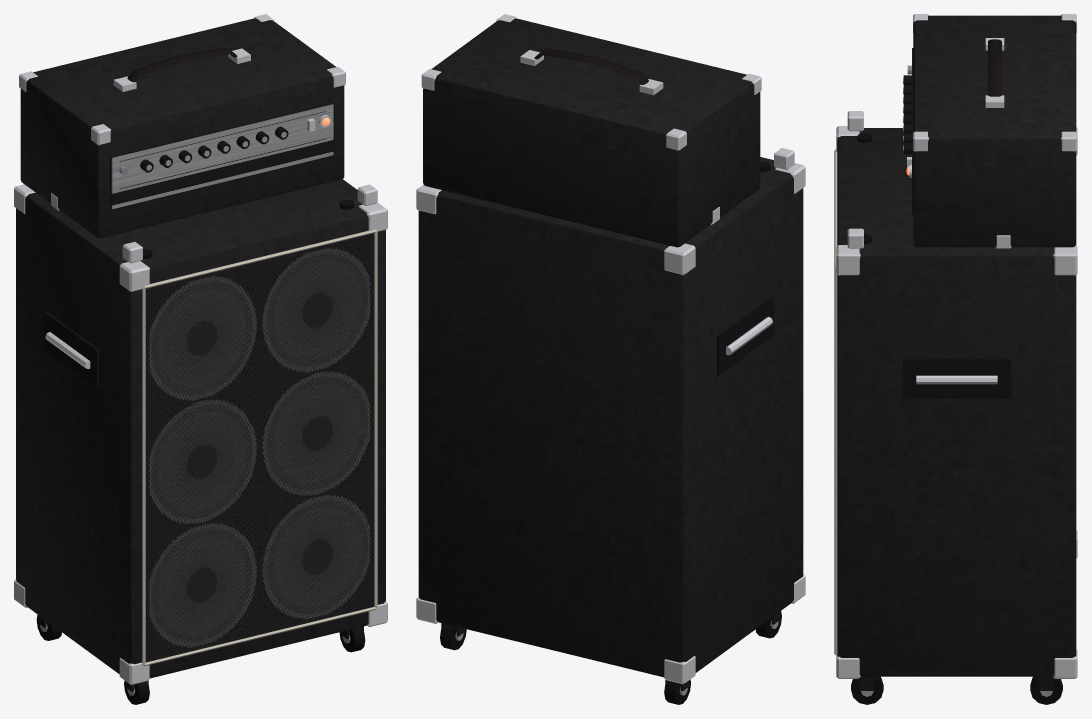
File: bass-rig.glb
3 renders of one model, left to right at view 1: azimuth 30°, elevation 25°; view 2: azimuth 150°, elevation 25°; view 3: azimuth 270°, elevation 25°, orthographic. The views are drawn at different scales.
Visible parts, largest first — view 1: bass-rig; view 2: bass-rig; view 3: bass-rig.
Boxes of the visible parts, box(x1,y1,x2,y2) form: bass-rig: box(14, 14, 387, 704); bass-rig: box(416, 14, 805, 704); bass-rig: box(834, 14, 1077, 704).
Size of the model in its own units: 0.593 by 1.2 by 0.4475.
Materials: 2 (1 with a texture image).
